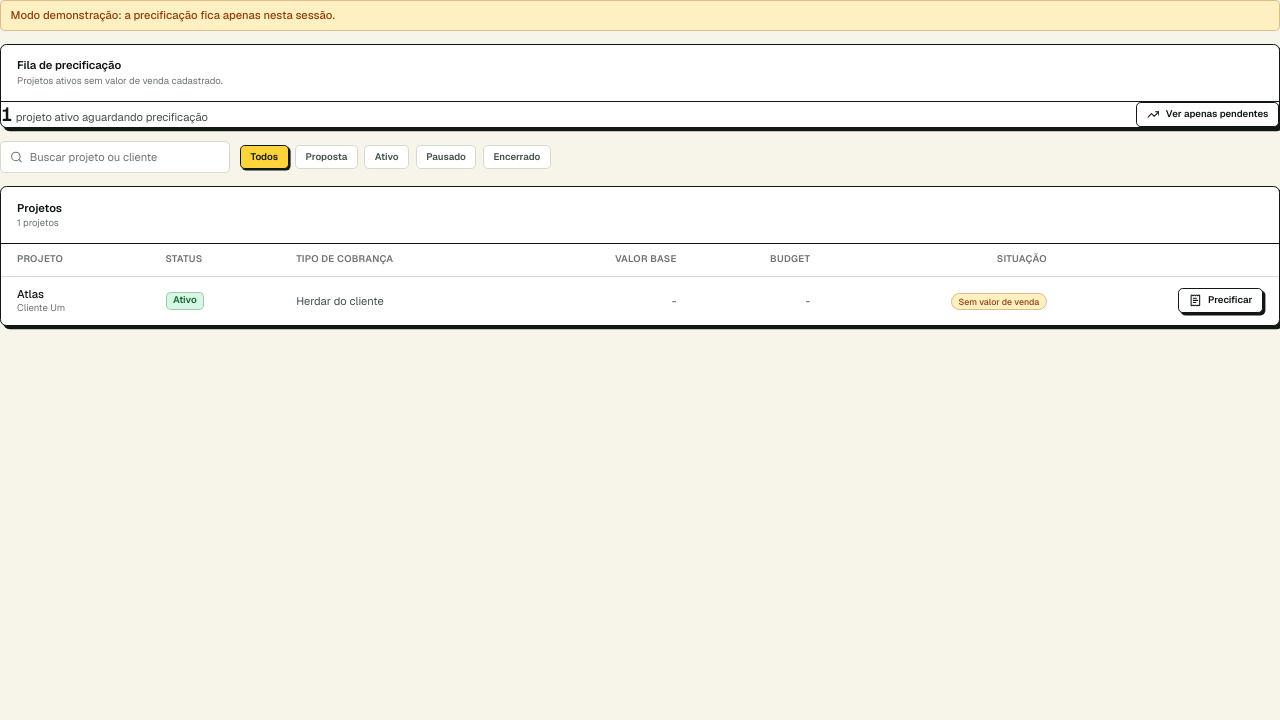
Scenario: CommercialView › lists allocated consultants as priceable rows with no value yet
Step 1. Click the button "Precificar" → (1221, 301), box top-left (1178, 288), bottom-right (1263, 314)
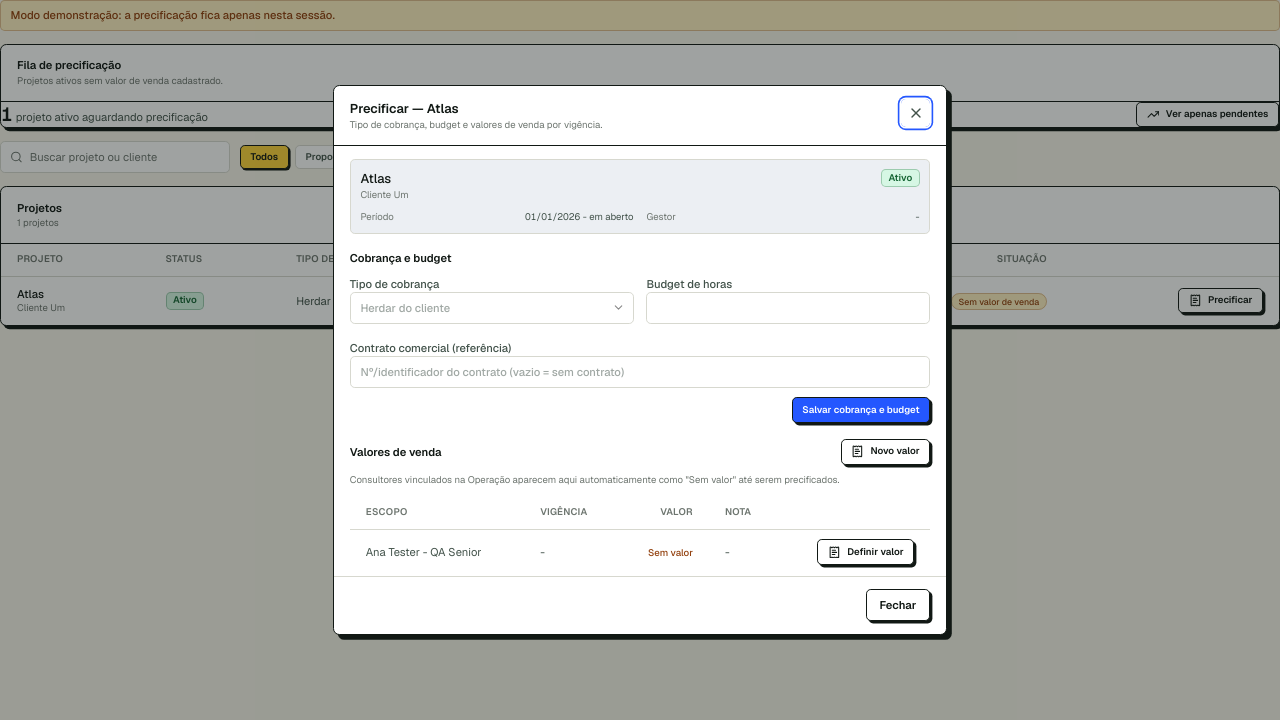
Expected: the text "Ana Tester - QA Senior" is shown, top-left (350, 529), bottom-right (524, 574)
Expected: the text "Sem valor" is shown, top-left (648, 546), bottom-right (693, 559)
Expected: the button with aria-label "Definir valor de Ana Tester" is shown, top-left (817, 539), bottom-right (914, 565)
